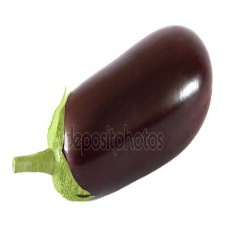eggplant: (52, 23, 213, 202)
